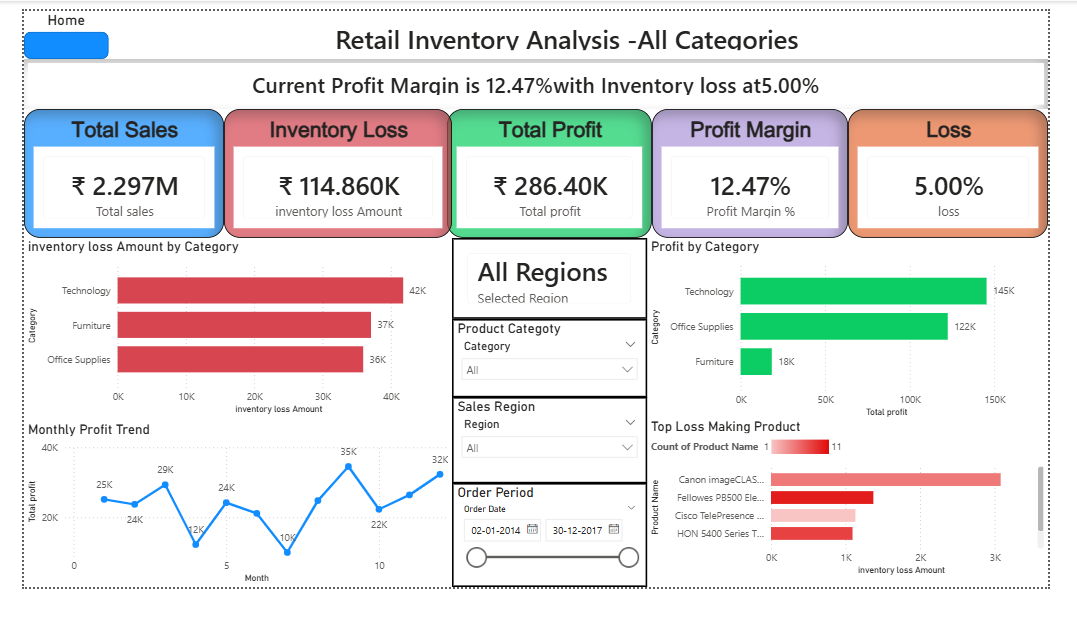

The page's visual inventory and layout, read from the dashboard file:
{"tool":"powerbi","page":{"name":"Product detail","canvas":[1280,720],"ordinal":5},"visuals":[{"type":"cardVisual","title":"Total Sales","fields":{"Data":["Retail Ordes.Total sales"]},"box":[0,122.5,250,161.2],"z":0},{"type":"cardVisual","title":"Total Profit","fields":{"Data":["Retail Ordes.Total profit"]},"box":[528.8,122.5,256.2,161.2],"z":1000},{"type":"cardVisual","title":"Profit Margin","fields":{"Data":["Retail Ordes.Profit Margin %"]},"box":[785,122.5,245,161.2],"z":2000},{"type":"cardVisual","title":"Inventory Loss","fields":{"Data":["Retail Ordes.inventory loss"]},"box":[250,122.5,285,161.2],"z":3000},{"type":"cardVisual","title":"Loss","fields":{"Data":["Retail Ordes.loss"]},"box":[1030,122.5,250,161.2],"z":4000},{"type":"textbox","box":[223.3,645,763.3,75],"z":5000},{"type":"clusteredBarChart","fields":{"Category":["Retail Ordes.Category"],"Y":["Retail Ordes.inventory loss"]},"box":[0,283.8,535,225],"z":6000},{"type":"clusteredBarChart","title":"Profit by Category","fields":{"Category":["Retail Ordes.Category"],"Y":["Retail Ordes.Total profit"]},"box":[778.8,283.8,501.2,228.8],"z":7000},{"type":"lineChart","title":"Monthly Profit Trend","fields":{"Y":["Retail Ordes.Total profit"],"Category":["Calendar.Month"]},"box":[0,512.5,535,207.5],"z":8000},{"type":"clusteredBarChart","title":"Top Loss Making Product","fields":{"Category":["Retail Ordes.Product Name"],"Y":["Retail Ordes.inventory loss"]},"box":[778.8,508.8,501.2,201.2],"z":9000},{"type":"slicer","title":"Product Categoty","fields":{"Values":["Retail Ordes.Category"]},"box":[535,385,243.8,97.5],"z":10000},{"type":"slicer","title":"Sales Region","fields":{"Values":["Retail Ordes.Region"]},"box":[535,482.5,243.8,107.5],"z":11000},{"type":"slicer","title":"Order Period","fields":{"Values":["Retail Ordes.Order Date"]},"box":[535,590,243.8,130],"z":12000},{"type":"cardVisual","fields":{"Data":["Retail Ordes.Dynamic Title"]},"box":[172,0,1012,66],"z":13000},{"type":"cardVisual","fields":{"Data":["Retail Ordes.Selected Region"]},"box":[535,283.8,243.8,101.2],"z":14000},{"type":"cardVisual","fields":{"Data":["Retail Ordes.business Insights"]},"box":[0,60,1280,62.5],"z":15000},{"type":"shape","title":"Home","box":[0,0,105.7,60],"z":16000}]}

Visuals, with their boxes in screenshot pixels (x1, y1, x2, y2):
"Total Sales" cardVisual: crop(20, 106, 220, 235)
"Total Profit" cardVisual: crop(443, 106, 648, 235)
"Profit Margin" cardVisual: crop(648, 106, 844, 235)
"Inventory Loss" cardVisual: crop(220, 106, 448, 235)
"Loss" cardVisual: crop(844, 106, 1044, 235)
textbox: crop(198, 525, 809, 585)
clusteredBarChart - Retail Ordes.Category x Retail Ordes.inventory loss: crop(20, 236, 448, 416)
"Profit by Category" clusteredBarChart: crop(643, 236, 1044, 419)
"Monthly Profit Trend" lineChart: crop(20, 419, 448, 585)
"Top Loss Making Product" clusteredBarChart: crop(643, 416, 1044, 577)
"Product Categoty" slicer: crop(448, 317, 643, 395)
"Sales Region" slicer: crop(448, 395, 643, 481)
"Order Period" slicer: crop(448, 481, 643, 585)
cardVisual - Retail Ordes.Dynamic Title: crop(157, 8, 967, 61)
cardVisual - Retail Ordes.Selected Region: crop(448, 236, 643, 317)
cardVisual - Retail Ordes.business Insights: crop(20, 56, 1044, 106)
"Home" shape: crop(20, 8, 104, 56)
